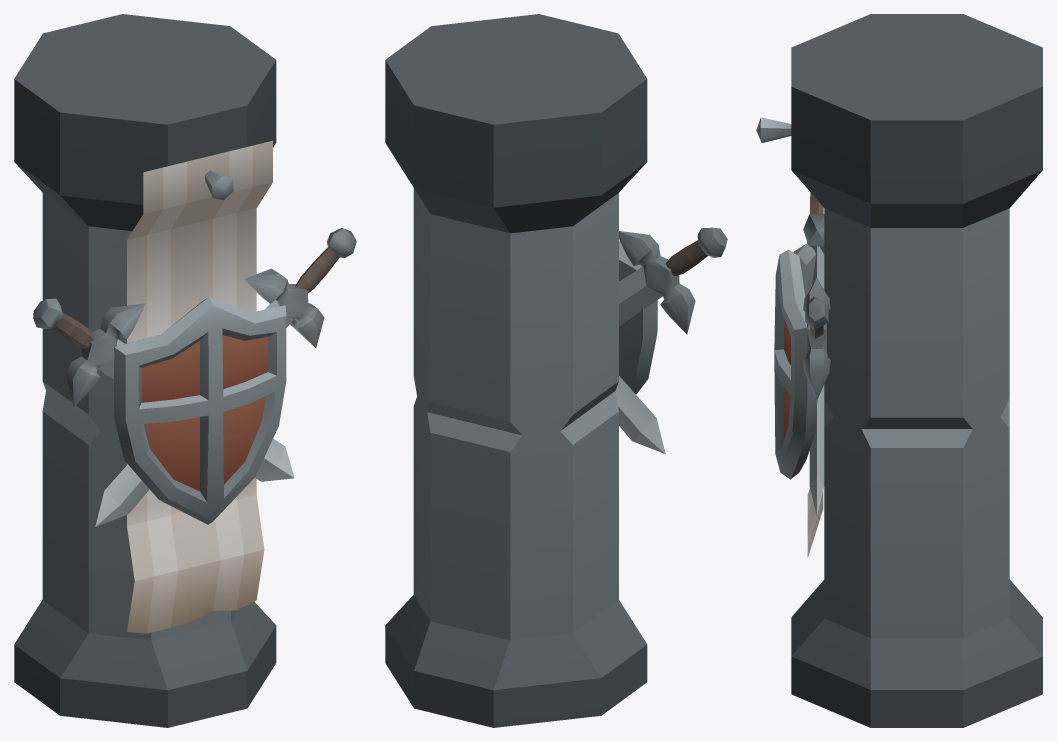
Rendered from pillar_decorated.gltf.
3 views of the same model, side by side, from view 1: azimuth 30°, elevation 25°; view 2: azimuth 150°, elevation 25°; view 3: azimuth 270°, elevation 25° (orthographic).
Parts seen in each view (by area): view 1: pillar_decorated; view 2: pillar_decorated; view 3: pillar_decorated.
Boxes of the visible parts, bbox=[...] form: pillar_decorated: bbox=[14, 14, 356, 727]; pillar_decorated: bbox=[385, 14, 727, 727]; pillar_decorated: bbox=[756, 14, 1042, 727].
Size of the model in its own units: 2.23 by 4 by 1.71.
Materials: 1 (1 with a texture image).
